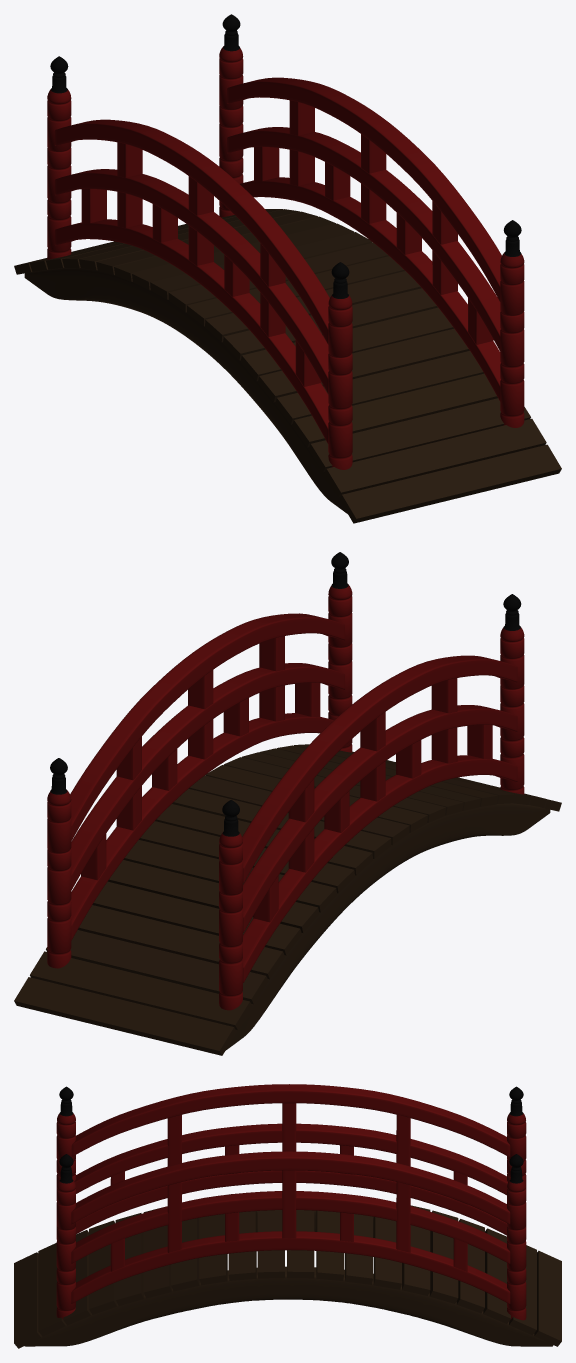
3 renders of one model, top to bottom at view 1: azimuth 30°, elevation 25°; view 2: azimuth 150°, elevation 25°; view 3: azimuth 270°, elevation 25°, orthographic. The views are drawn at different scales.
Visible parts, largest first — view 1: g Box026, g Box027, g Box002, g Box022, g Box021, g Box020, g Box019, g Cylinder001, g Cylinder003, g Box018, g Box017, g Cylinder007 (+11 smaller); view 2: g Box026, g Box027, g Box002, g Box003, g Box004, g Box005, g Box006, g Cylinder005, g Cylinder007, g Box007, g Box008, g Cylinder003 (+12 smaller); view 3: g Box027, g Box026, g Box024, g Cylinder005, g Cylinder001, g Box003, g Box022, g Box021, g Box015, g Box013, g Box007, g Box009 (+19 smaller).
Part boxes in pixels (left/top/right/bottom): g Box026: left=54, top=119, right=329, bottom=443; g Box027: left=227, top=77, right=501, bottom=401; g Box002: left=24, top=268, right=347, bottom=513; g Box022: left=339, top=444, right=561, bottom=523; g Box021: left=324, top=418, right=546, bottom=497; g Box020: left=308, top=398, right=530, bottom=472; g Box019: left=292, top=373, right=497, bottom=447; g Cylinder001: left=500, top=253, right=524, bottom=427; g Cylinder003: left=328, top=295, right=352, bottom=469; g Box018: left=275, top=351, right=483, bottom=424; g Box017: left=257, top=328, right=469, bottom=402; g Cylinder007: left=47, top=89, right=71, bottom=259; g Box026: left=242, top=655, right=517, bottom=982; g Box027: left=70, top=613, right=344, bottom=940; g Box002: left=225, top=803, right=550, bottom=1050; g Box003: left=14, top=977, right=236, bottom=1055; g Box004: left=30, top=951, right=252, bottom=1029; g Box005: left=46, top=930, right=268, bottom=1004; g Box006: left=78, top=905, right=284, bottom=979; g Cylinder005: left=47, top=790, right=71, bottom=968; g Cylinder007: left=219, top=832, right=242, bottom=1010; g Box007: left=92, top=881, right=301, bottom=955; g Box008: left=108, top=860, right=319, bottom=932; g Cylinder003: left=500, top=627, right=524, bottom=794; g Box027: left=71, top=1151, right=510, bottom=1304; g Box026: left=71, top=1084, right=510, bottom=1235; g Box024: left=24, top=1266, right=553, bottom=1346; g Cylinder005: left=507, top=1179, right=526, bottom=1320; g Cylinder001: left=56, top=1179, right=75, bottom=1319; g Box003: left=534, top=1250, right=561, bottom=1346; g Box022: left=14, top=1252, right=41, bottom=1348; g Box021: left=38, top=1243, right=65, bottom=1336; g Box015: left=199, top=1214, right=227, bottom=1285; g Box013: left=257, top=1210, right=284, bottom=1278; g Box007: left=429, top=1210, right=458, bottom=1303; g Box009: left=373, top=1217, right=401, bottom=1289.
Bounding box in the file's own units: 0.6934 × 0.7581 × 2.
